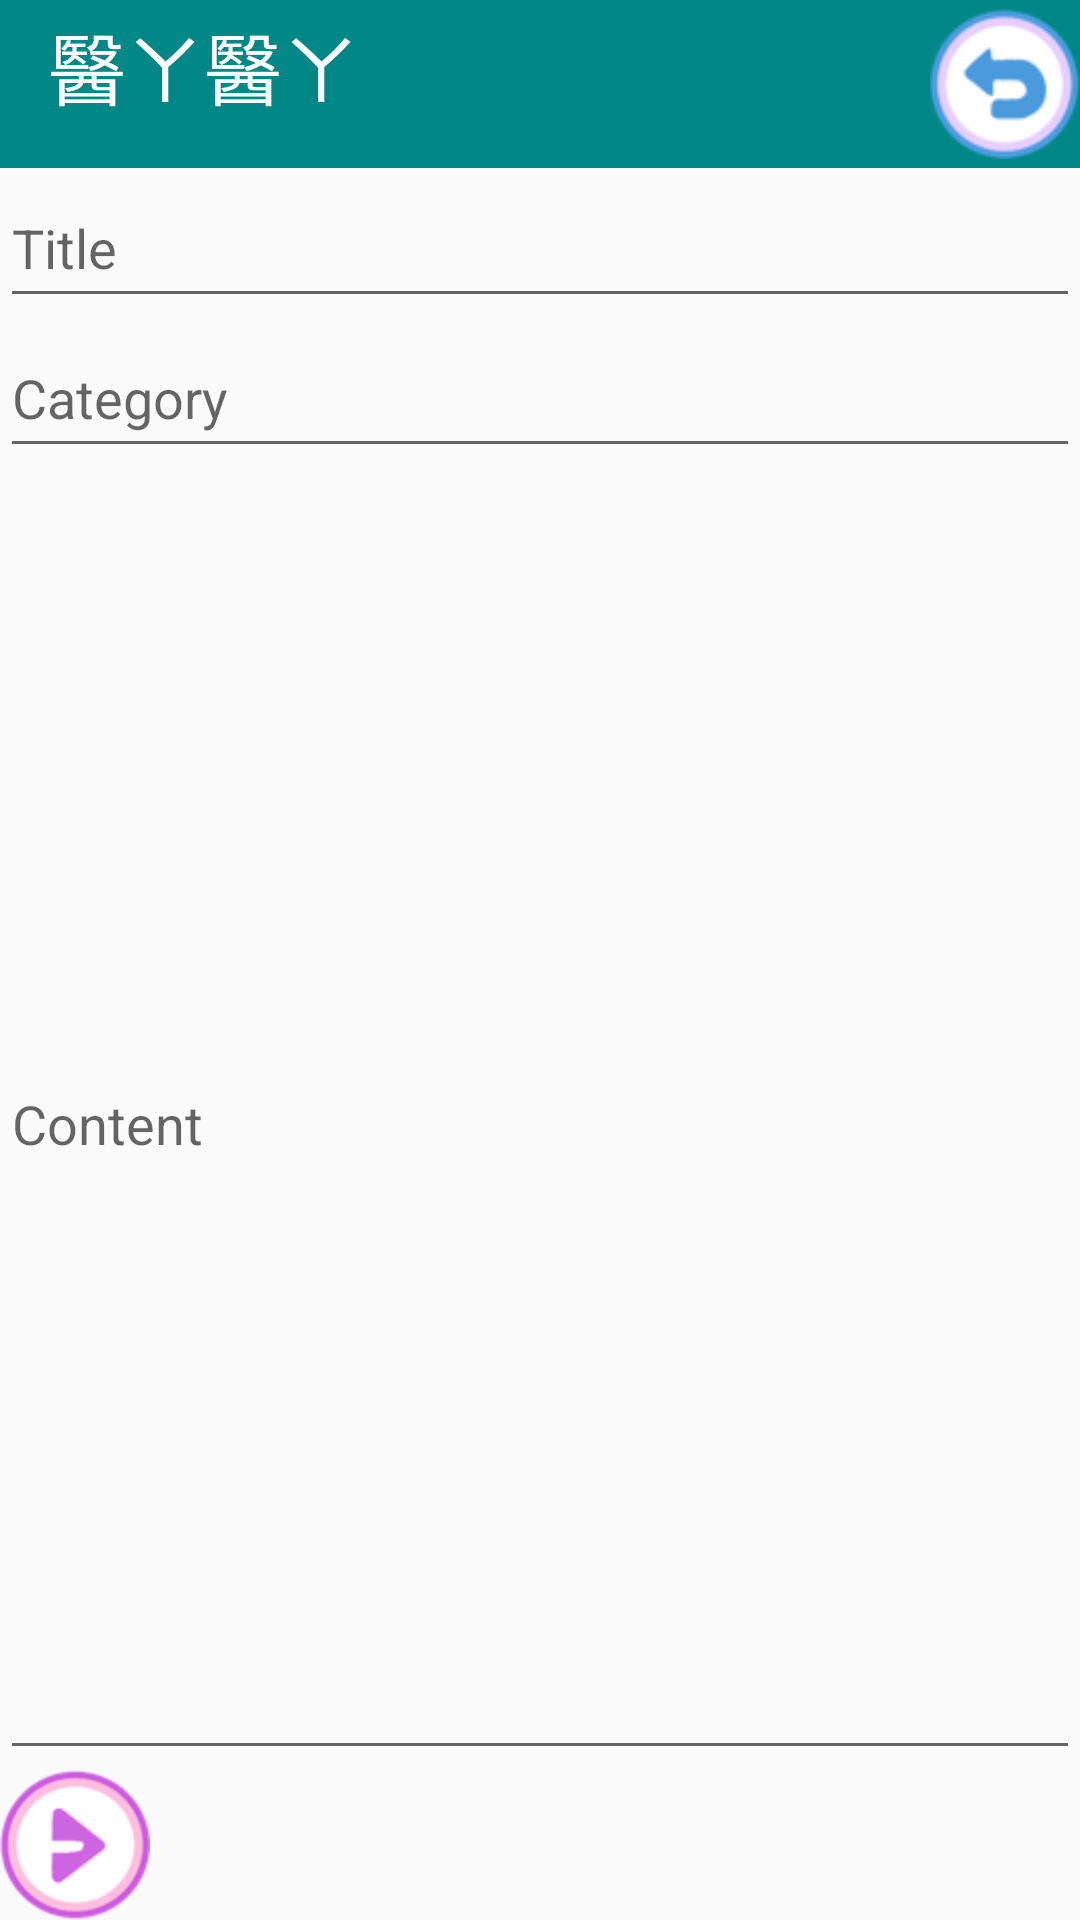

Icons on this 1080px x 1920px Android screen, each with its box as detection(x1, y1, x2, y2):
back: detection(930, 9, 1079, 159)
send: detection(0, 1770, 150, 1919)
